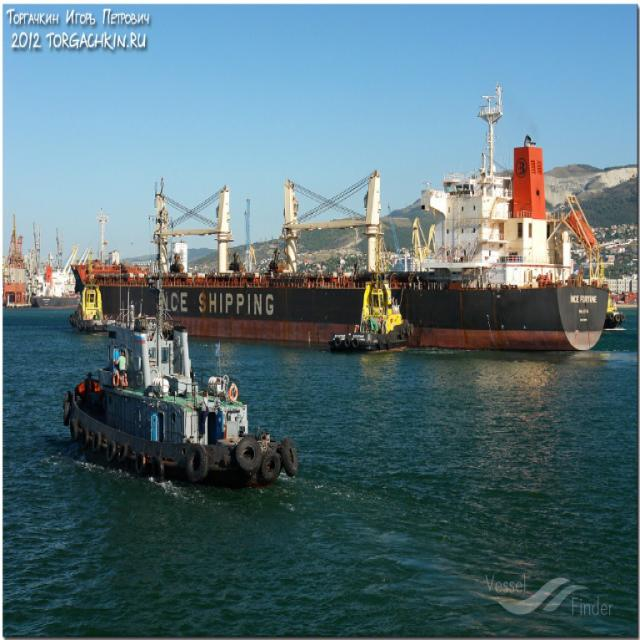Bulk Carrier: (70, 164, 608, 351)
tugboat: (63, 306, 300, 494), (329, 268, 417, 358), (70, 277, 110, 332)
